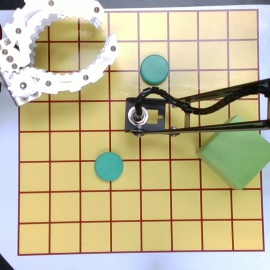green: (94, 152, 124, 182), (139, 55, 170, 84)
